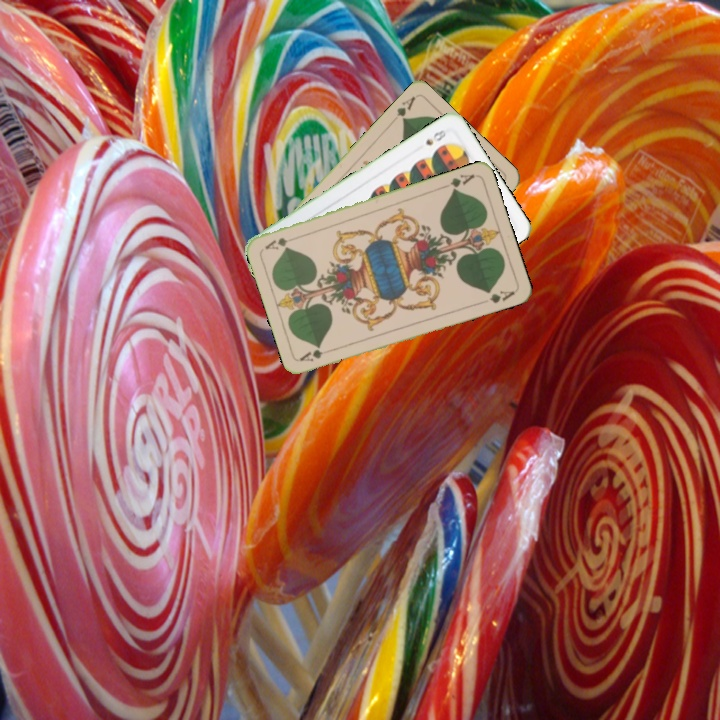GA: (438, 170, 477, 194), (392, 92, 418, 124), (297, 344, 336, 364)
S8: (421, 124, 451, 148)
